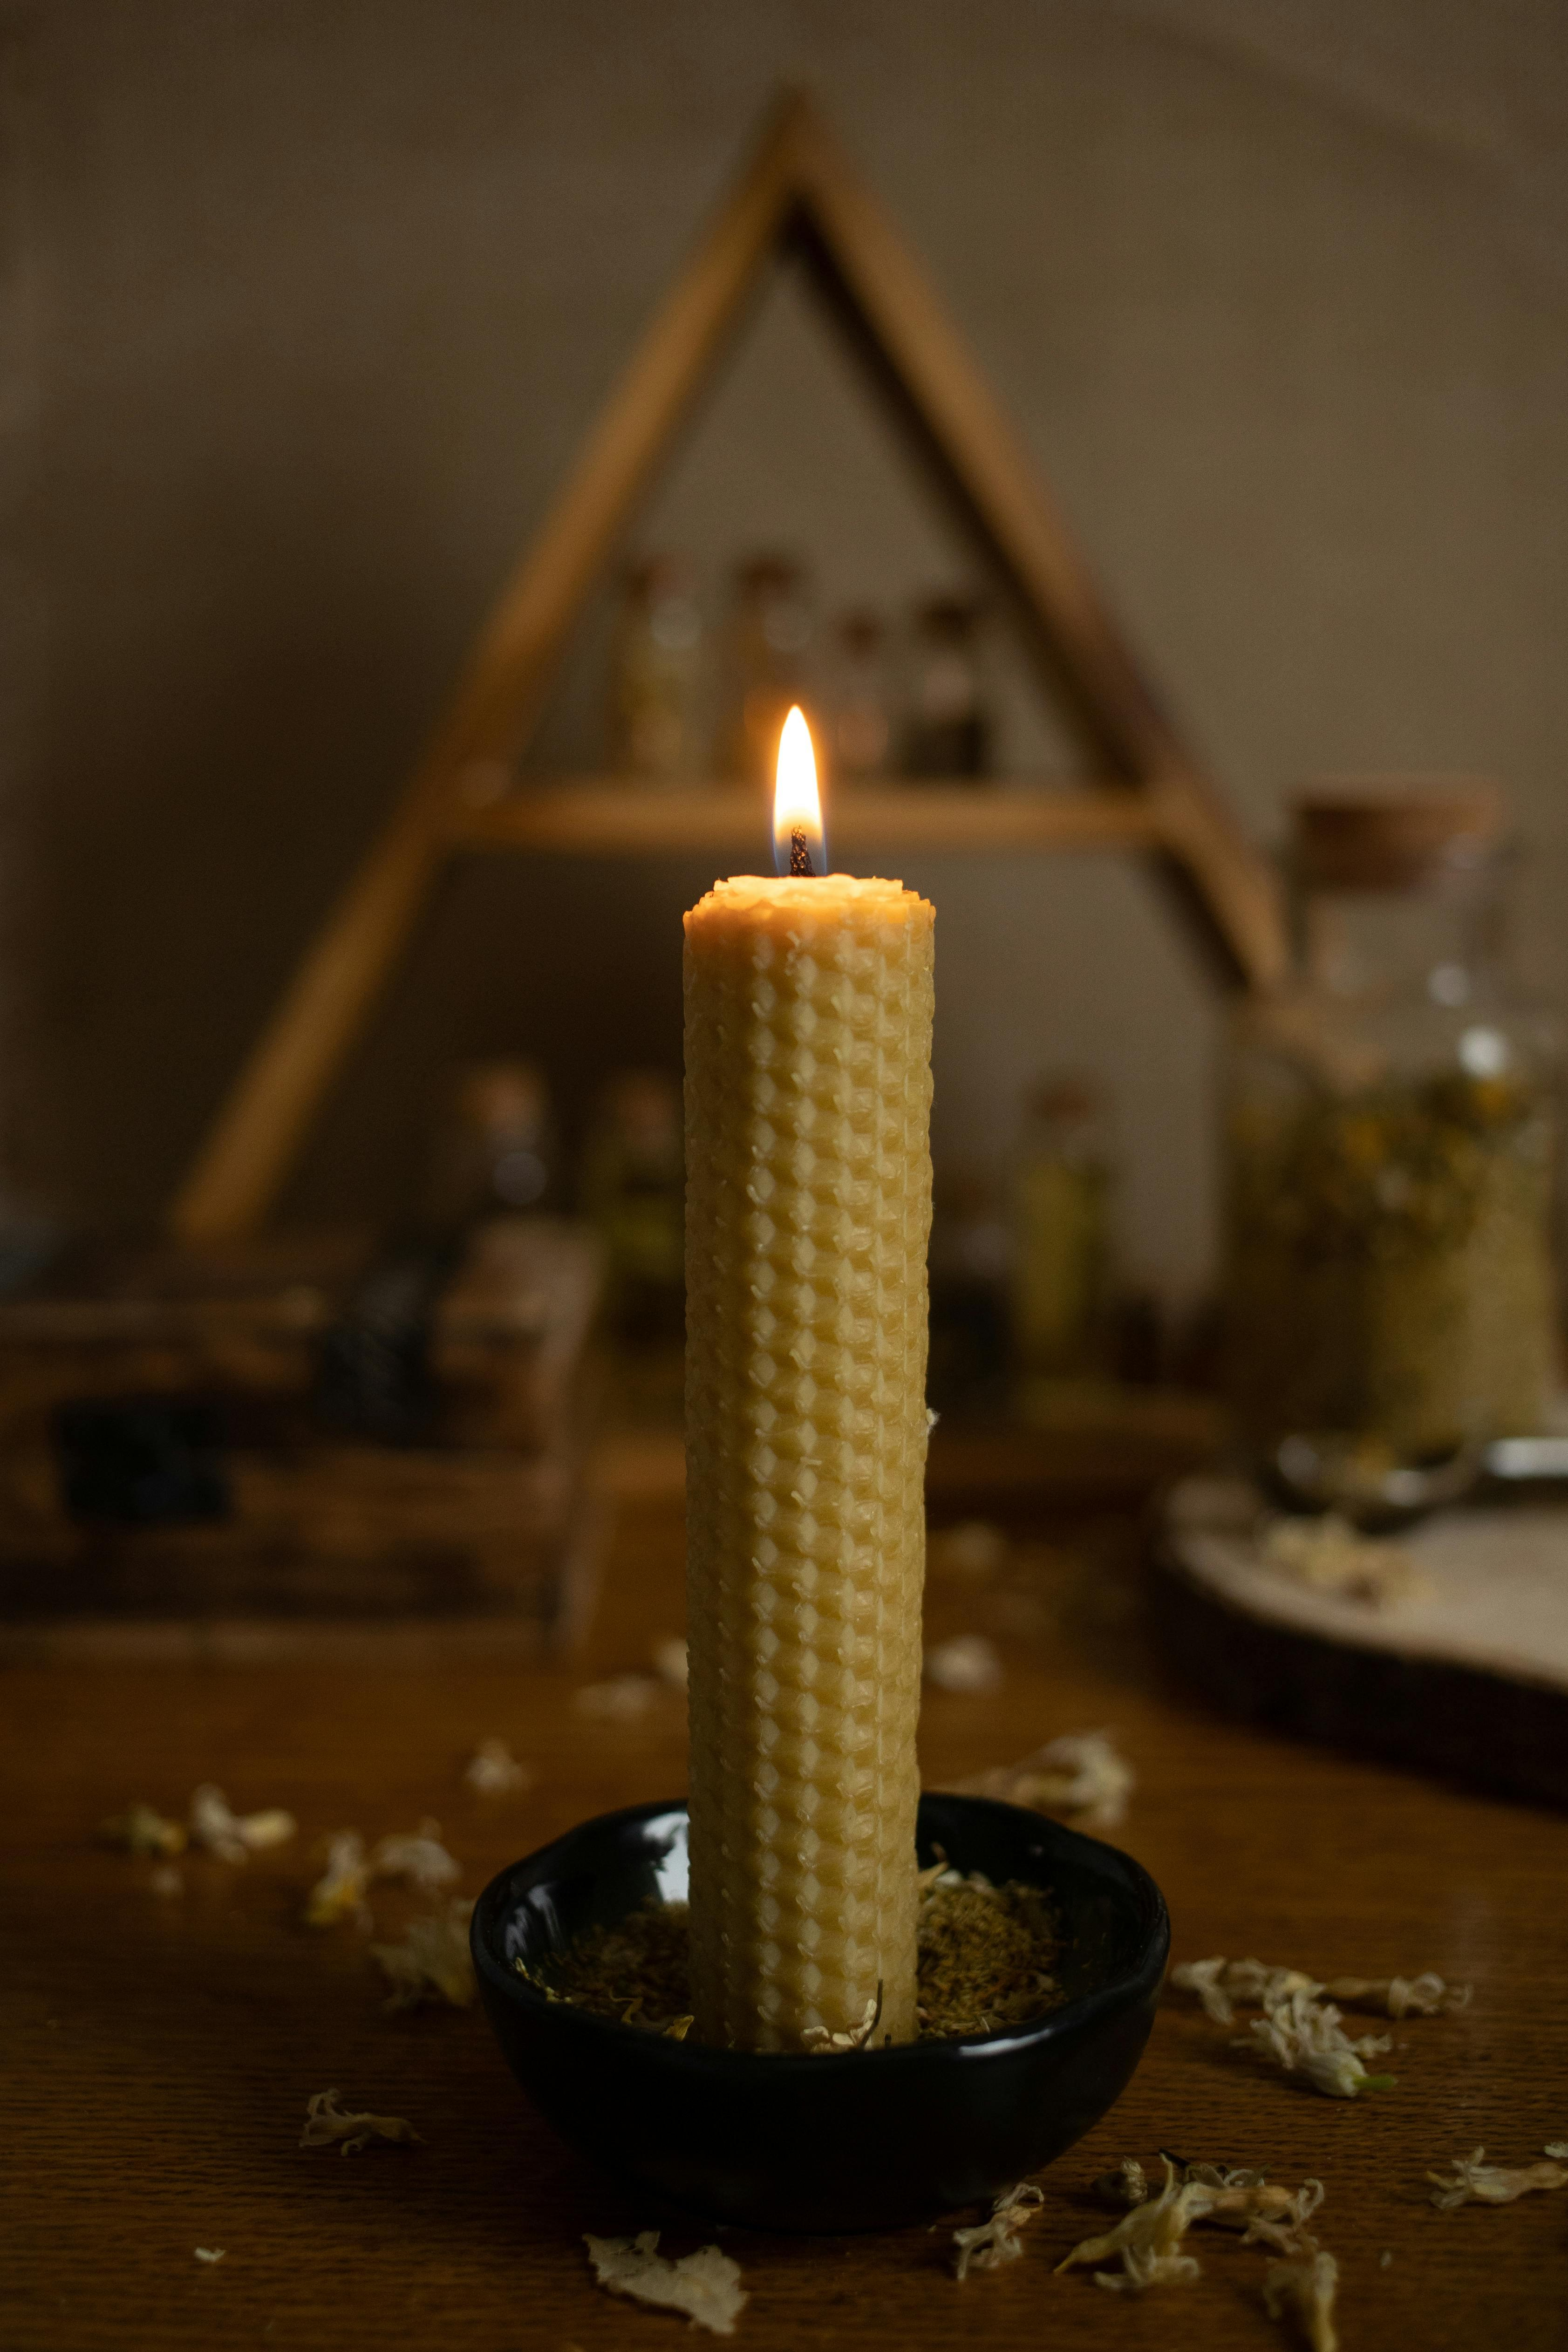Fire: (745, 689, 868, 878)
